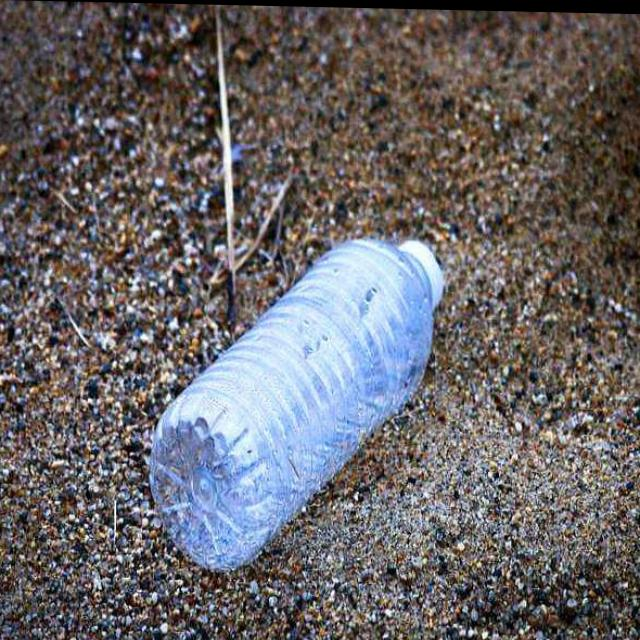Non-biodegradable: (151, 220, 448, 575)
